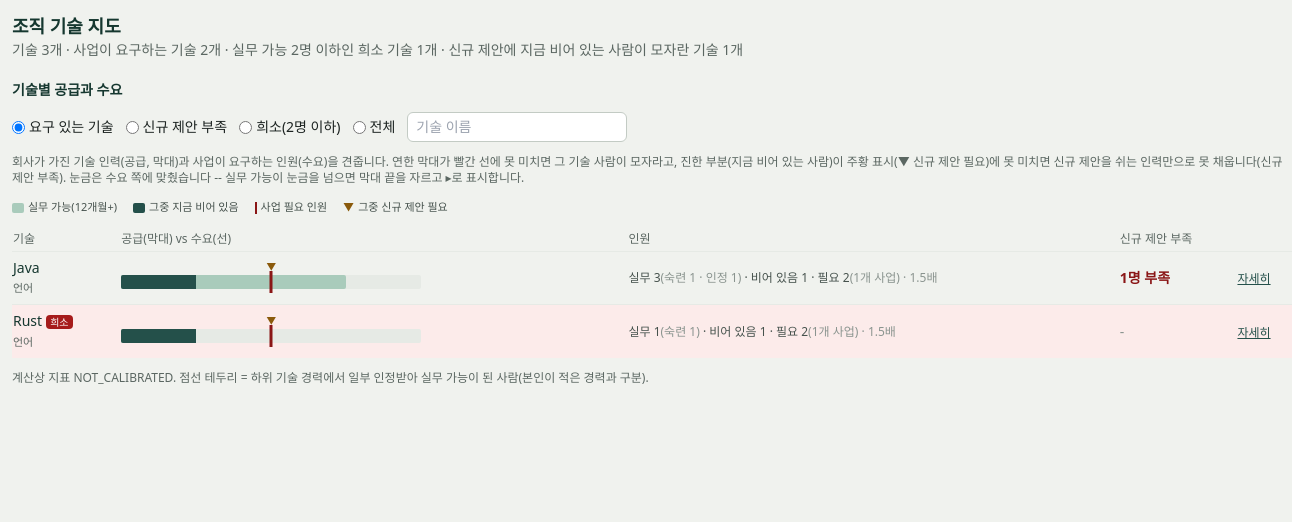
Test case: SkillMapTab › 요구 있는 기술을 먼저 보이고, 필터·자세히로 수요 사업과 인정받은 사람을 구분해 보인다
Expected: the text "Java" is shown, [13, 258, 40, 277]
Expected: the text "COBOL" is not shown
Click the radio button labelled "희소(2명 이하)" at (246, 127), box [239, 120, 252, 134]
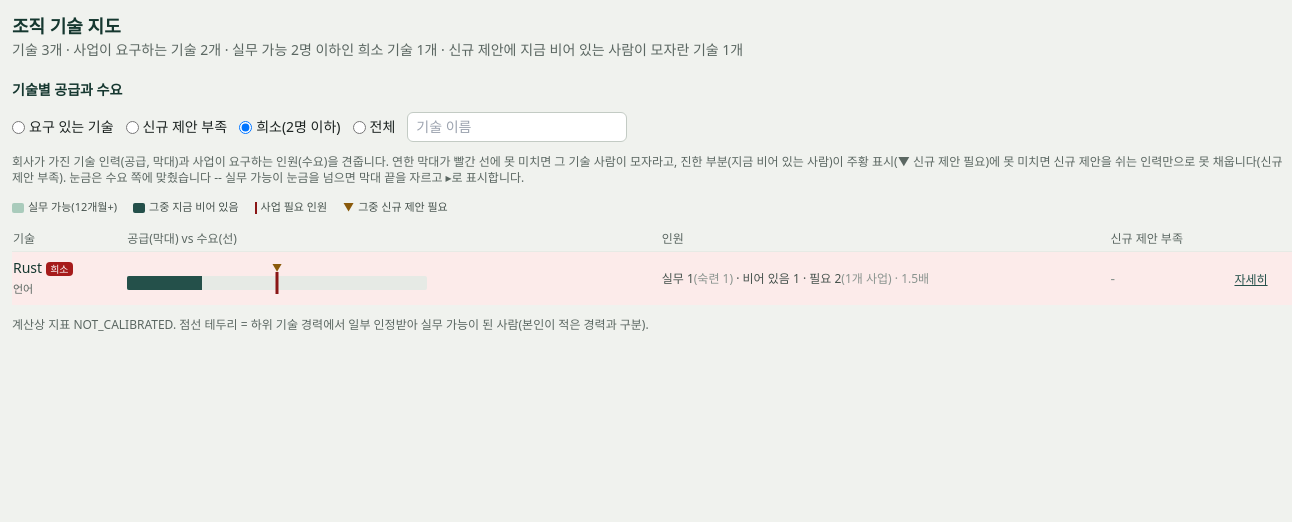
Expected: the text "Rust" is shown, [13, 258, 42, 277]
Now the text "Java" is gone
Click the radio button labelled "전체" at (359, 127), box [353, 120, 366, 134]
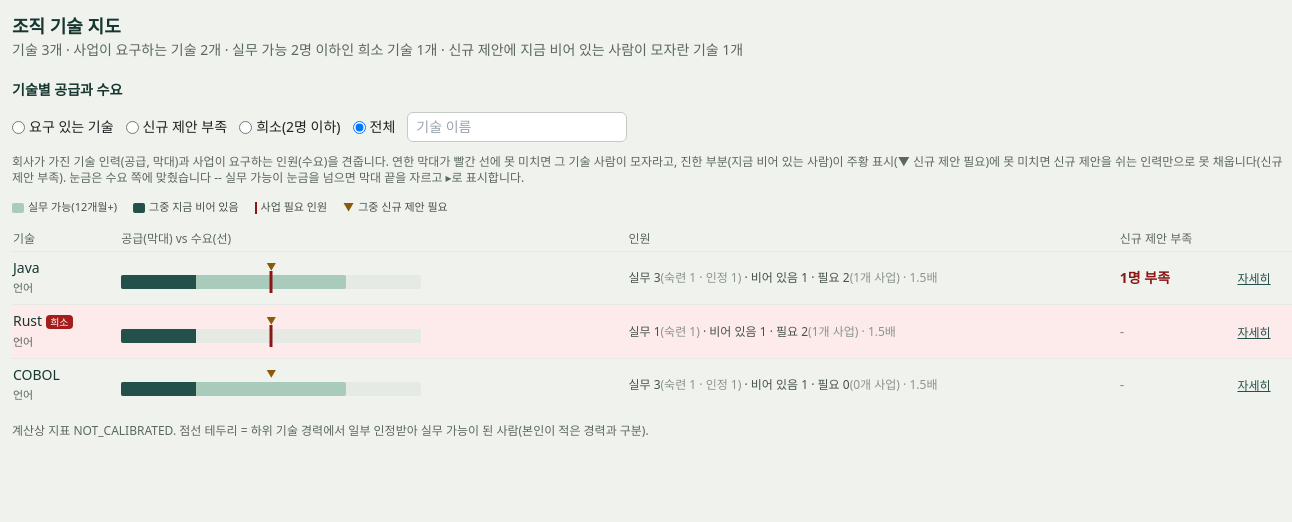
Click the button with aria-label "Java 자세히" at (1254, 279), box [1238, 271, 1271, 287]
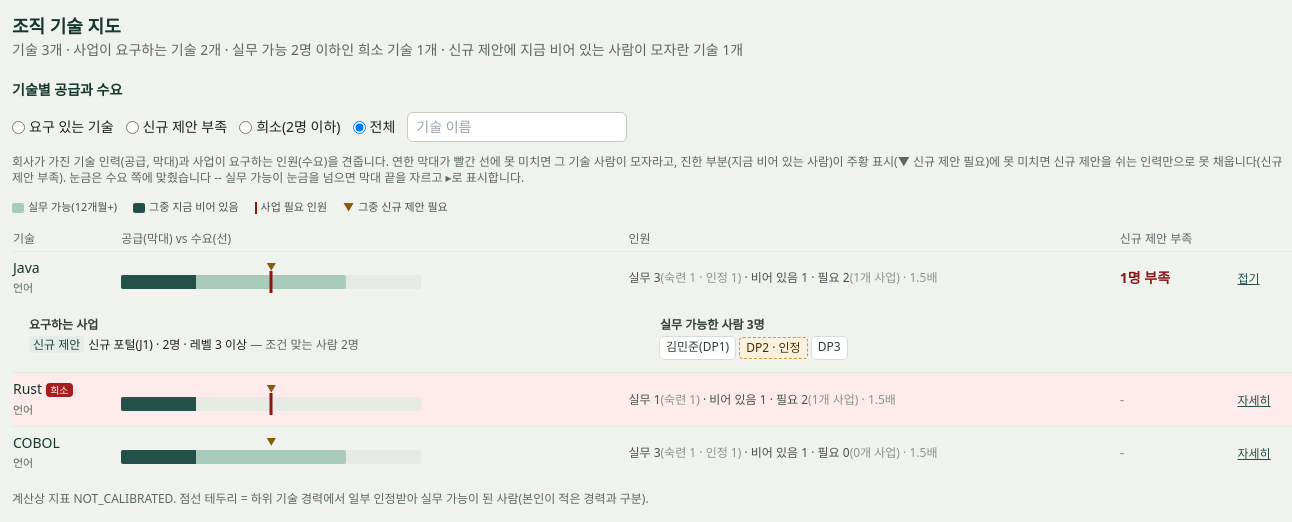
Now the list item "신규 포털(J1) · 2명 · 레벨 3 이상" is shown, box [29, 336, 359, 353]
Now the text "김민준(DP1)" is shown, box [660, 337, 735, 359]
Now the text "DP2 · 인정" is shown, box [739, 337, 808, 359]
